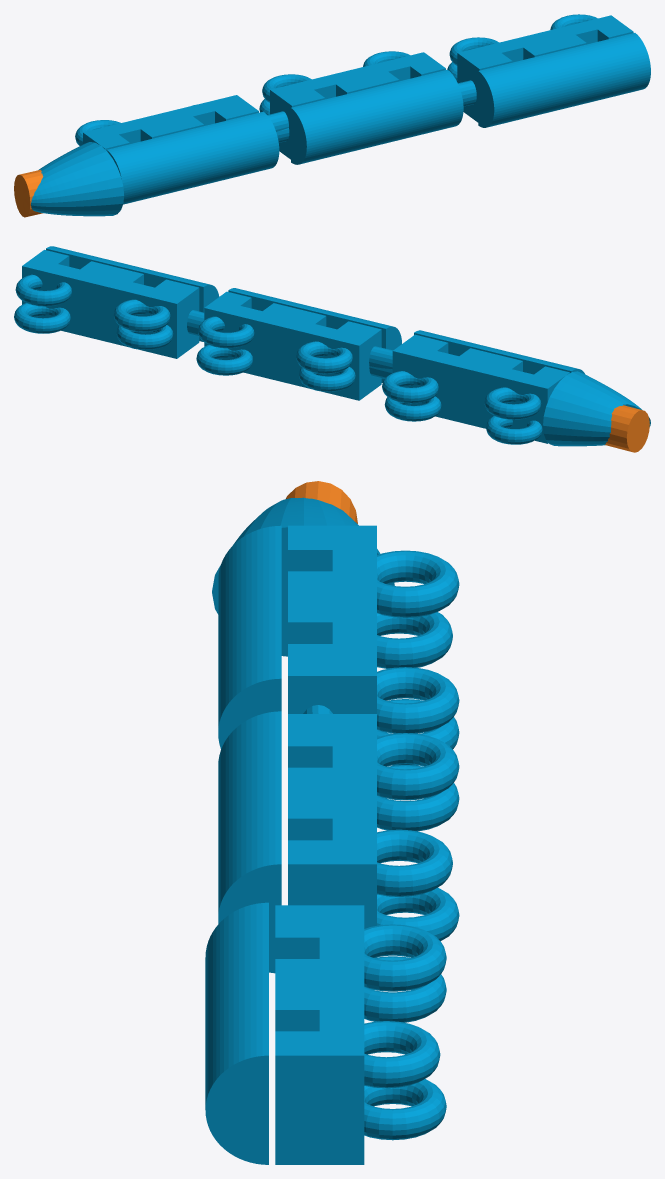
File: tinker.obj
The picture shows the model from 3 angles, top to bottom: view 1: azimuth 30°, elevation 25°; view 2: azimuth 150°, elevation 25°; view 3: azimuth 270°, elevation 25°; orthographic projection. The views are drawn at different scales.
Parts seen in each view (by area): view 1: group_0_40919, group_0_16089887; view 2: group_0_40919, group_0_16089887; view 3: group_0_40919, group_0_16089887.
Part boxes in pixels (box(x1,y1,x2,y2)): group_0_40919: box(31, 14, 650, 216); group_0_16089887: box(14, 169, 43, 217); group_0_40919: box(14, 246, 650, 446); group_0_16089887: box(605, 405, 649, 452); group_0_40919: box(205, 497, 459, 1164); group_0_16089887: box(286, 481, 357, 523).
Bounding box in the file's own units: 219 × 23 × 40.
